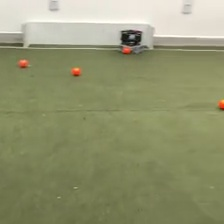ball: (18, 58, 28, 68), (71, 66, 81, 76), (121, 45, 131, 55), (218, 96, 224, 110)
goal: (21, 20, 155, 50)
robot: (119, 28, 144, 55)
